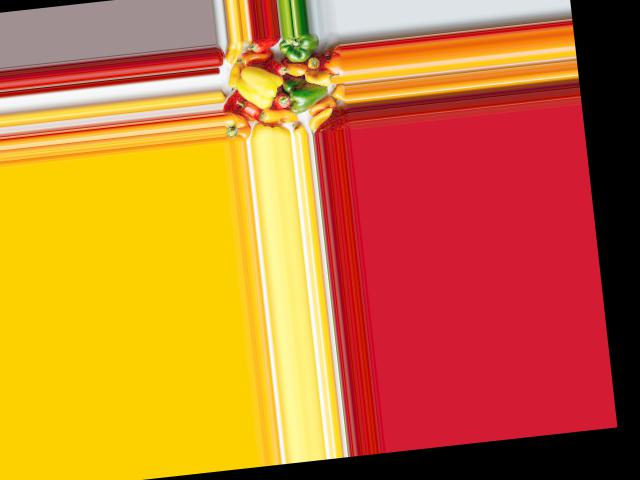bell_pepper: (244, 36, 278, 57)
